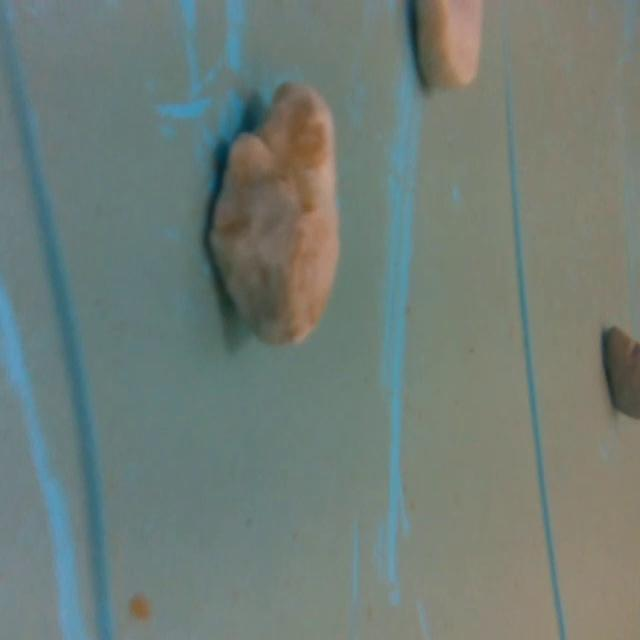rock: (201, 71, 345, 356), (405, 0, 487, 96), (600, 318, 640, 425)
